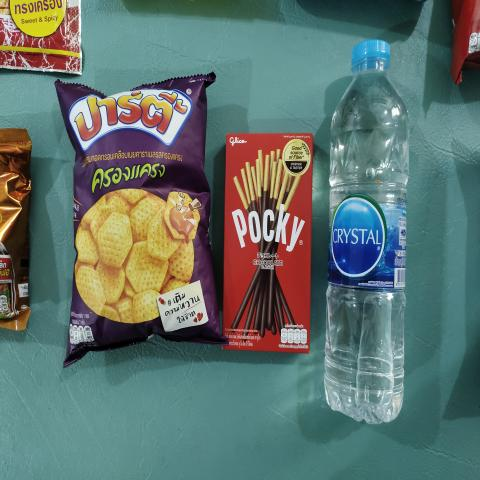crystal: (326, 32, 412, 422)
party_purple: (70, 89, 214, 334)
pokki: (227, 134, 308, 347)
